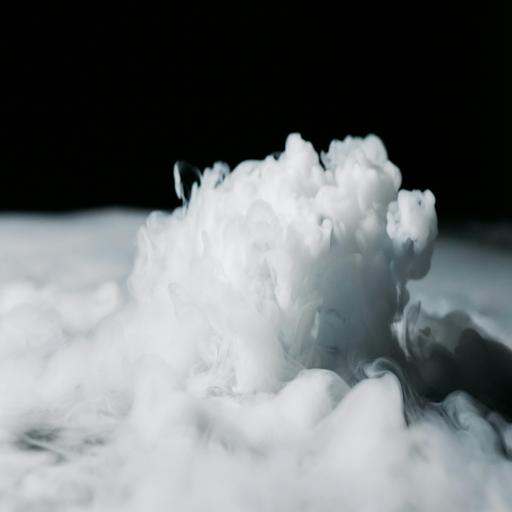smoke: (3, 112, 512, 512)
